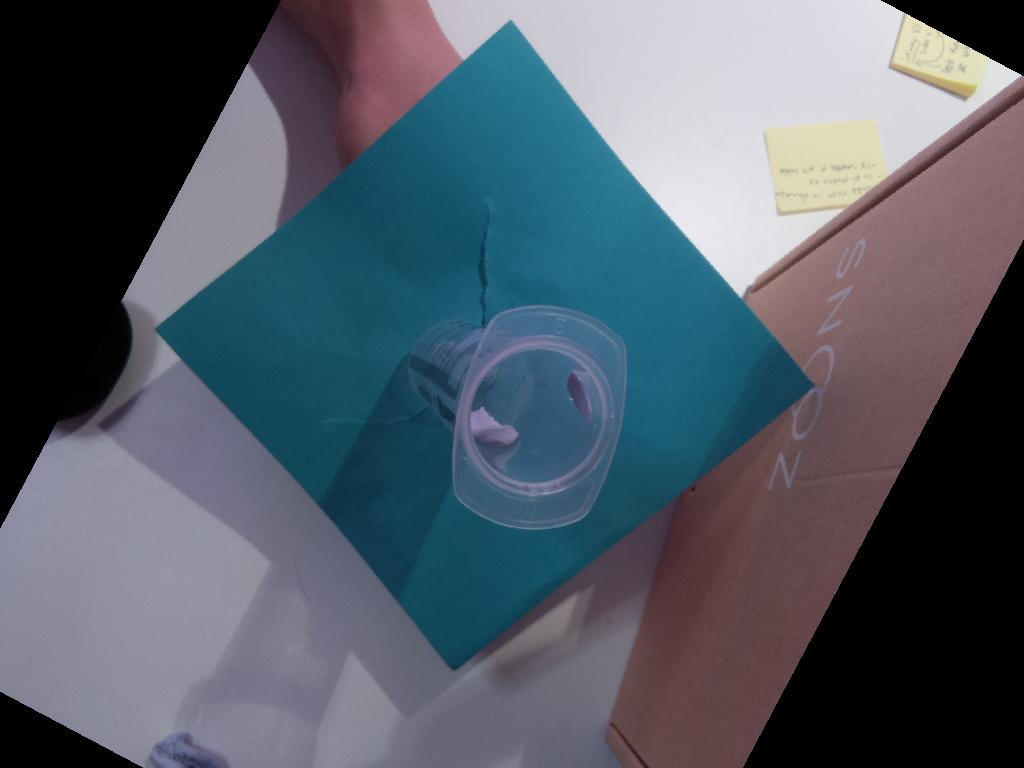dirty: (452, 303, 627, 530)
